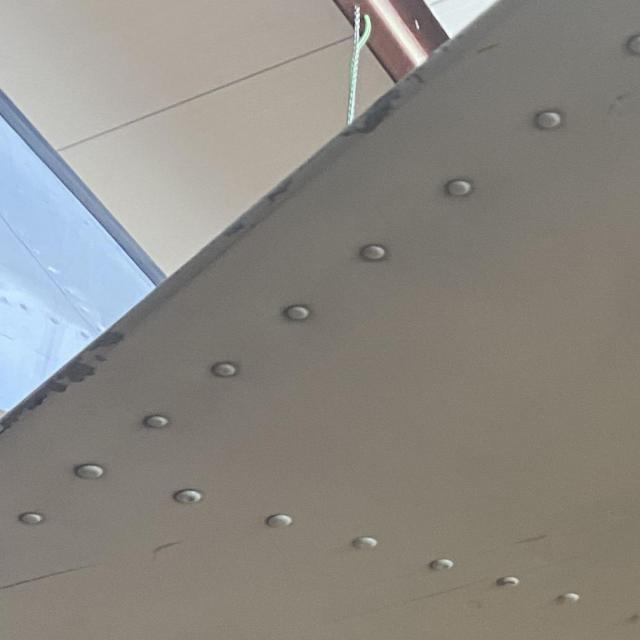Paint-off: (2, 382, 67, 434), (342, 88, 397, 135), (53, 356, 97, 385), (84, 329, 125, 356), (266, 174, 301, 201), (224, 224, 243, 236)
Scratch: (0, 563, 100, 595)
